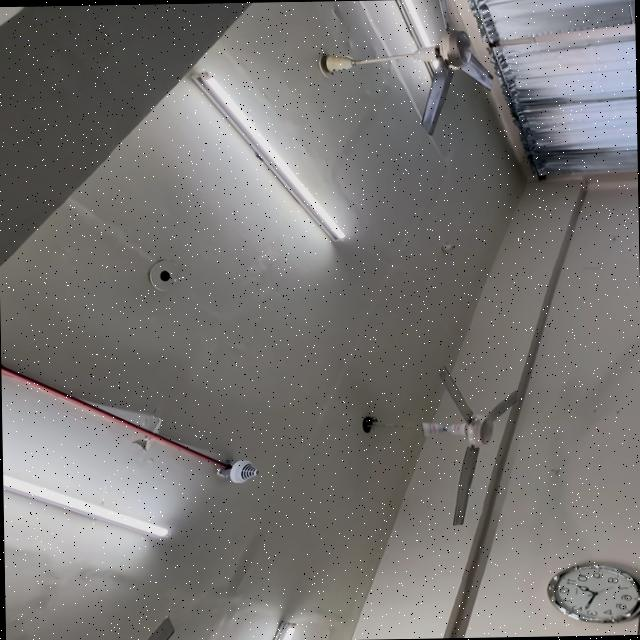Light: (190, 69, 348, 239), (3, 473, 169, 535), (396, 0, 439, 74), (271, 620, 295, 640)
